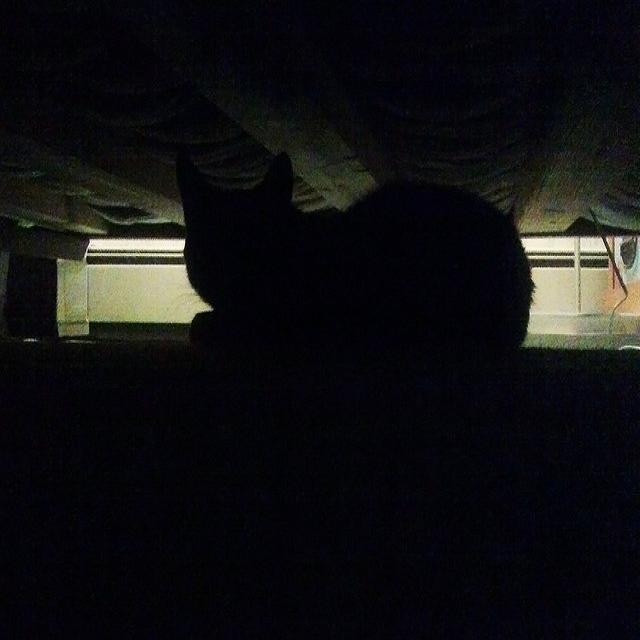Cat: (136, 141, 570, 417)
